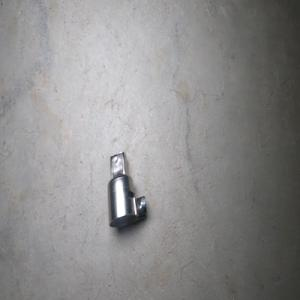MetalPart: (106, 150, 147, 228)
